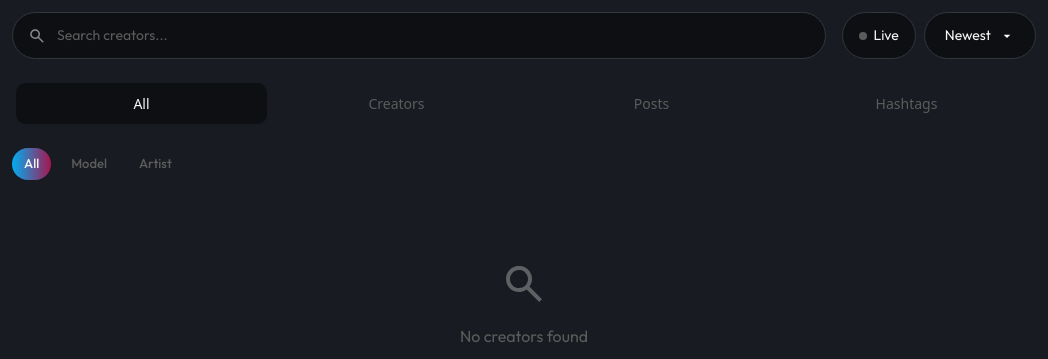
Scenario: Explore page › should show hashtags placeholder when hashtags tab active
The image size is (1048, 359).
Step 1. Click the button "Hashtags" → (906, 104), box [781,83,1032,124]
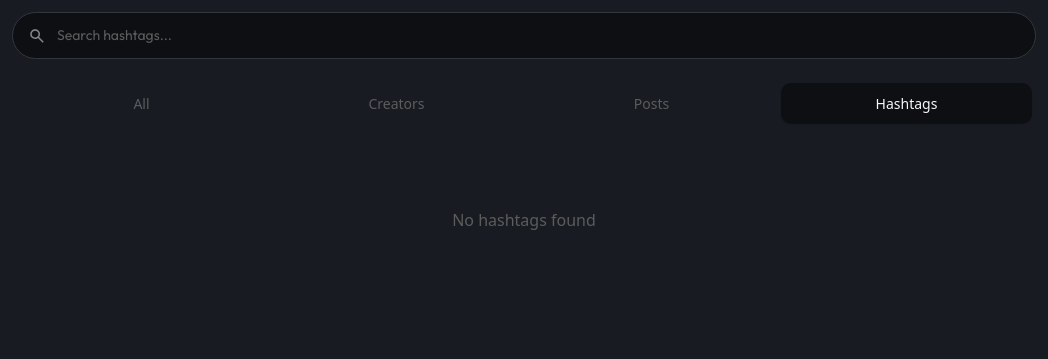
Now the field with placeholder "Search hashtags..." is shown, box [12,12,1036,59]
